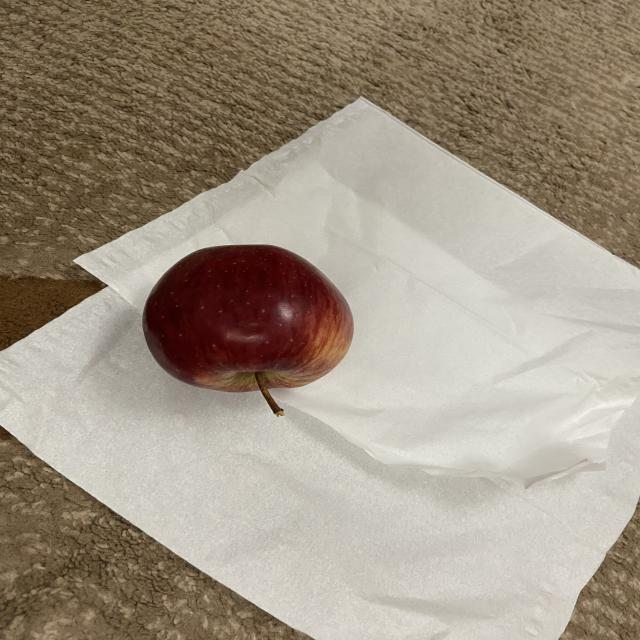apple: (140, 238, 360, 428)
